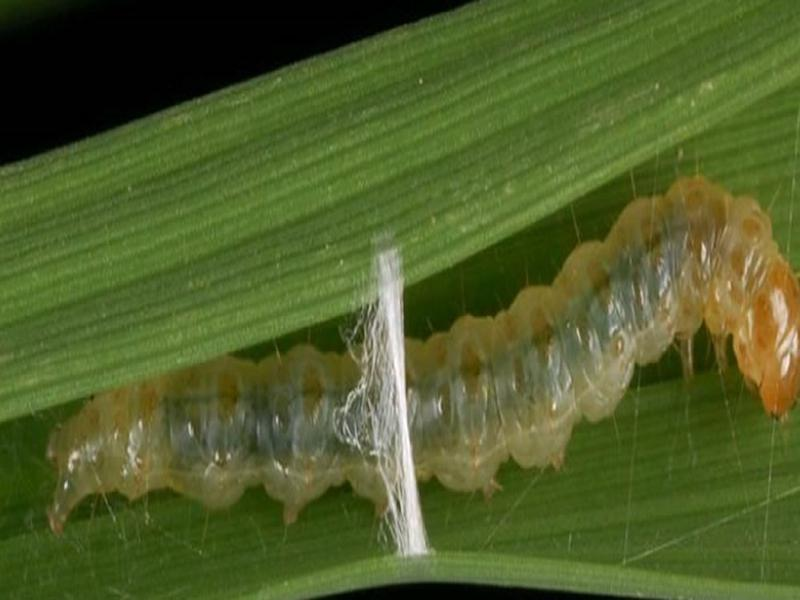Leaf_folder: (14, 178, 800, 519)
